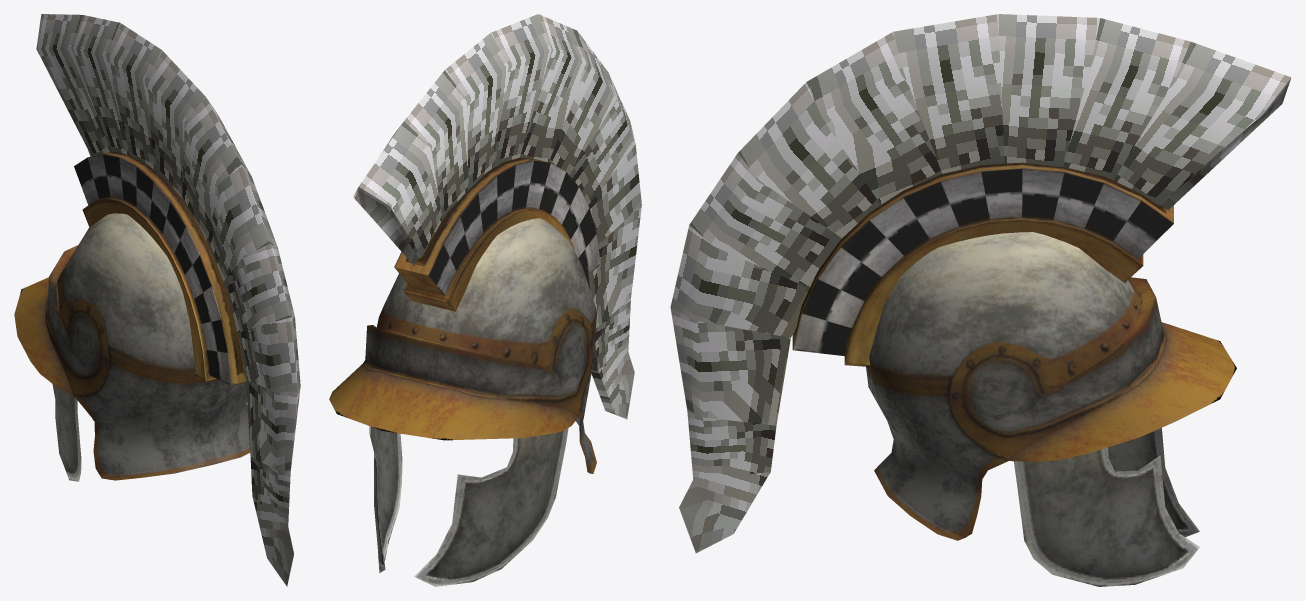
Rendered from helm_hele_thracian_s2.glb.
The picture shows the model from 3 angles, left to right: view 1: azimuth 30°, elevation 25°; view 2: azimuth 150°, elevation 25°; view 3: azimuth 270°, elevation 25°; orthographic projection. The views are drawn at different scales.
Parts seen in each view (by area): view 1: helm_hele_thracian_s2_part3, helm_hele_thracian_s2_part0, helm_hele_thracian_s2_part2, helm_hele_thracian_s2_part1; view 2: helm_hele_thracian_s2_part3, helm_hele_thracian_s2_part0, helm_hele_thracian_s2_part1, helm_hele_thracian_s2_part2; view 3: helm_hele_thracian_s2_part3, helm_hele_thracian_s2_part0, helm_hele_thracian_s2_part2, helm_hele_thracian_s2_part1.
Part boxes in pixels (<box>): helm_hele_thracian_s2_part3: <box>36,14,300,586</box>; helm_hele_thracian_s2_part0: <box>14,213,250,480</box>; helm_hele_thracian_s2_part2: <box>74,151,245,385</box>; helm_hele_thracian_s2_part1: <box>52,384,94,481</box>; helm_hele_thracian_s2_part3: <box>353,14,641,419</box>; helm_hele_thracian_s2_part0: <box>329,218,596,473</box>; helm_hele_thracian_s2_part1: <box>369,426,568,586</box>; helm_hele_thracian_s2_part2: <box>394,157,600,311</box>; helm_hele_thracian_s2_part3: <box>670,14,1291,553</box>; helm_hele_thracian_s2_part0: <box>866,232,1236,540</box>; helm_hele_thracian_s2_part2: <box>792,162,1173,366</box>; helm_hele_thracian_s2_part1: <box>1014,428,1199,586</box>.
Bounding box in the file's own units: 0.4941 × 1.13 × 1.16.
Materials: 4 (4 with a texture image).
